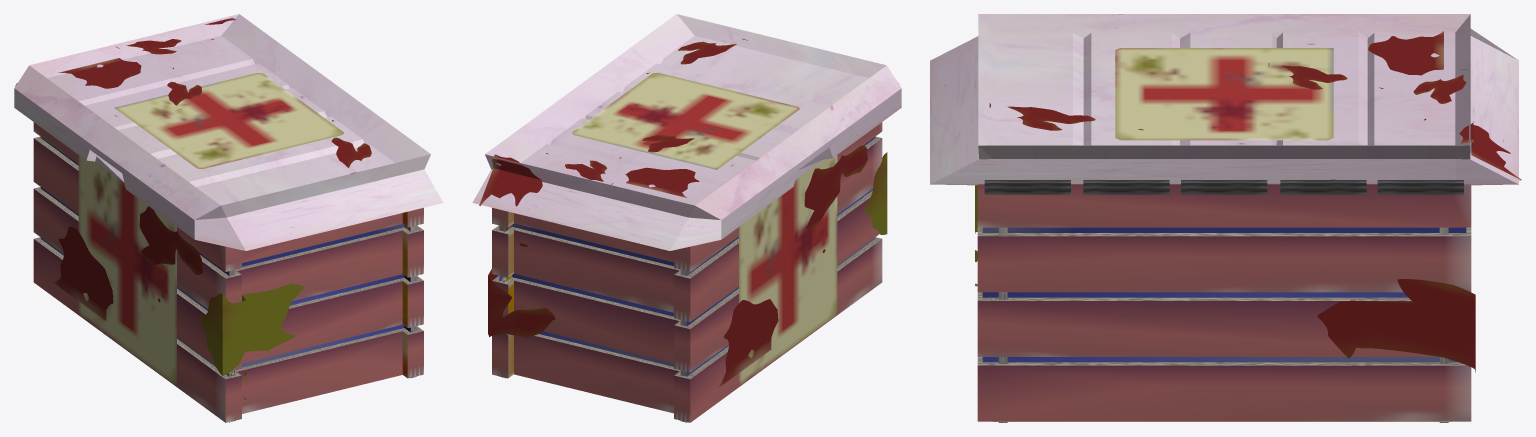
Rendered from med crate.obj.
3 views of the same model, side by side, from view 1: azimuth 30°, elevation 25°; view 2: azimuth 150°, elevation 25°; view 3: azimuth 270°, elevation 25° (orthographic). The views are drawn at different scales.
Parts seen in each view (by area): view 1: Cube.020, cross_1_Plane.003, cross_2_Plane, Plane.001, Cube.015, Cube.017, Cube.016, Cube.005, Cube.007, Cube.006, Cube.019, Plane.005 (+8 smaller); view 2: Cube.020, cross_1_Plane.003, cross_2_Plane, Cube.012, Cube.010, Cube.011, Plane.001, Cube.005, Cube.007, Cube.006, Plane.006, Plane.002 (+8 smaller); view 3: Cube.020, Cube, Cube.002, Cube.001, cross_2_Plane, Cube.003, Plane.002, Cube.004, Plane.005, Plane.006, Cube.022, Cube.023 (+4 smaller).
Boxes of the visible parts, x1,y1,x2,y2 form: Cube.020: (14, 14, 443, 250); cross_1_Plane.003: (78, 155, 176, 384); cross_2_Plane: (114, 73, 343, 168); Plane.001: (52, 206, 304, 401); Cube.015: (229, 326, 417, 413); Cube.017: (217, 228, 404, 300); Cube.016: (242, 276, 417, 363); Cube.005: (33, 237, 241, 422); Cube.007: (33, 136, 241, 308); Cube.006: (33, 187, 241, 370); Cube.019: (242, 224, 404, 367); Plane.005: (58, 58, 201, 110); Cube.020: (472, 14, 901, 250); cross_1_Plane.003: (739, 155, 837, 384); cross_2_Plane: (572, 72, 799, 169); Cube.012: (498, 226, 700, 312); Cube.010: (514, 334, 700, 413); Cube.011: (498, 276, 700, 362); Plane.001: (717, 145, 887, 388); Cube.005: (674, 237, 882, 422); Cube.007: (674, 136, 882, 321); Cube.006: (674, 193, 879, 372); Plane.006: (479, 153, 612, 206); Plane.002: (488, 243, 555, 337); Cube.020: (930, 14, 1518, 185); Cube: (977, 357, 1471, 421); Cube.002: (977, 227, 1471, 292); Cube.001: (977, 292, 1438, 356); cross_2_Plane: (1115, 48, 1333, 140); Cube.003: (977, 184, 1471, 227); Plane.002: (1317, 279, 1475, 372); Cube.004: (982, 227, 1466, 362); Plane.005: (1268, 31, 1443, 89); Plane.006: (1413, 69, 1521, 180); Cube.022: (1280, 180, 1366, 194); Cube.023: (1377, 180, 1463, 194).
Size of the model in its own units: 1.42 by 1.29 by 2.45.
1 material, 1 textured.
